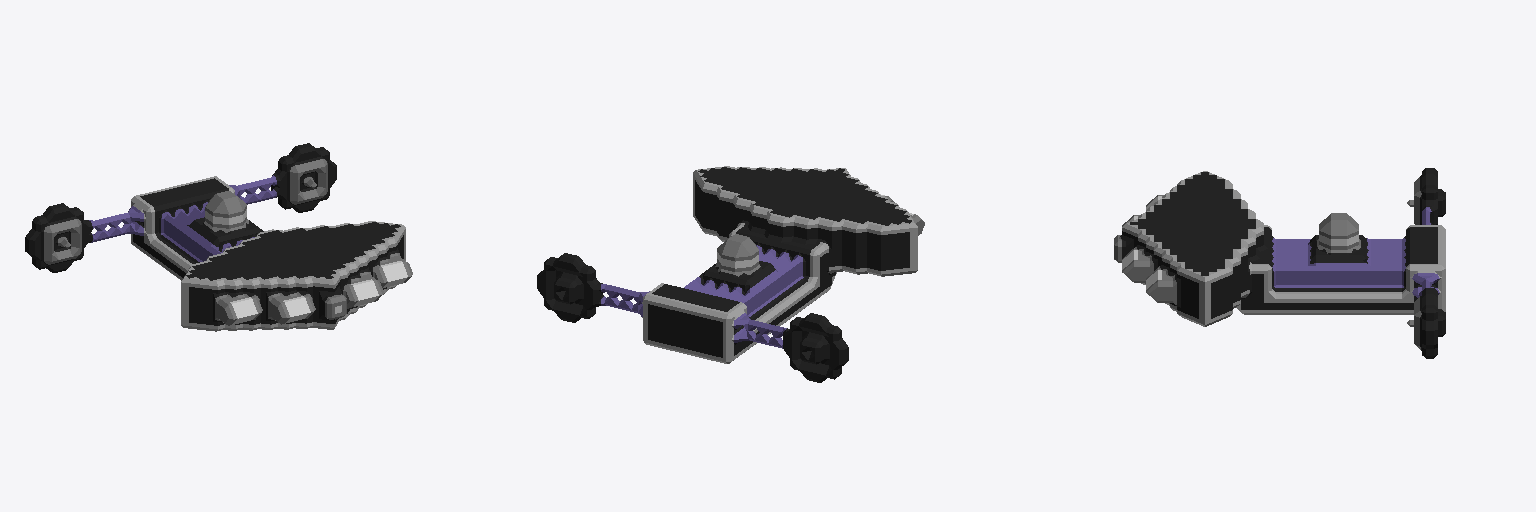
3 views of the same model, side by side, from view 1: azimuth 30°, elevation 25°; view 2: azimuth 150°, elevation 25°; view 3: azimuth 270°, elevation 25° (orthographic).
Size of the model in its own units: 45 by 11 by 42.
1 materials, 1 textured.